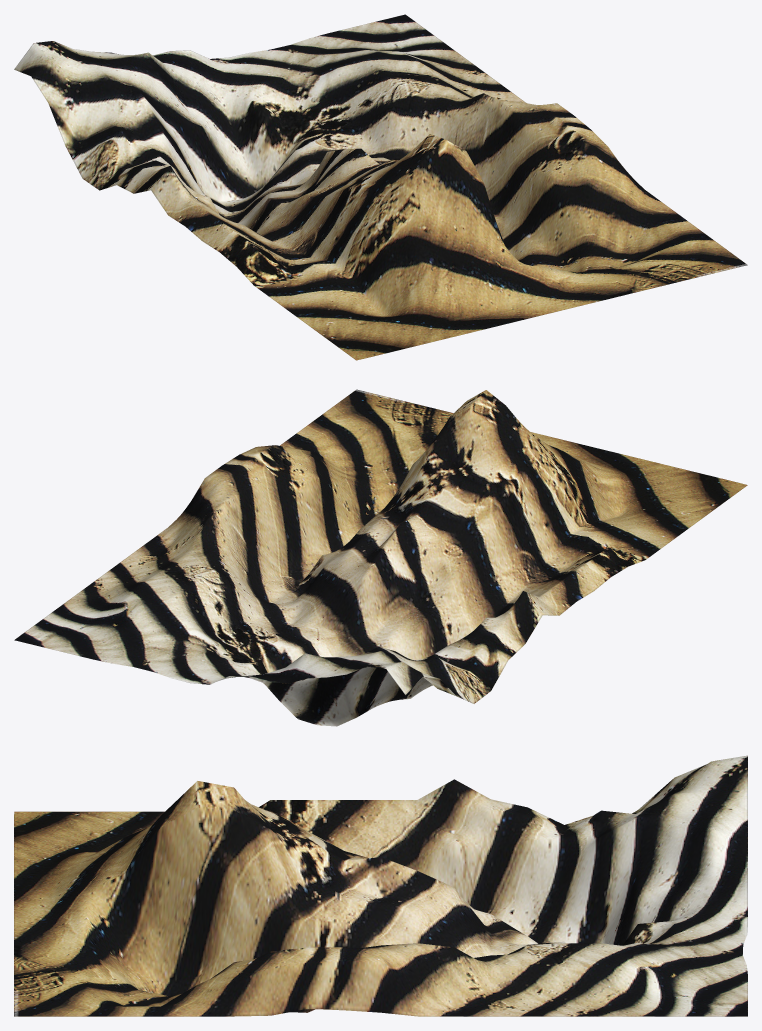
File: terrain8000_wAlphaMap.DAE
3 views of the same model, one above another, from view 1: azimuth 30°, elevation 25°; view 2: azimuth 150°, elevation 25°; view 3: azimuth 270°, elevation 25° (orthographic). The views are drawn at different scales.
Parts seen in each view (by area): view 1: geo_terrain28; view 2: geo_terrain28; view 3: geo_terrain28.
Part boxes in pixels (left/top/right/bottom): geo_terrain28: left=14, top=14, right=747, bottom=360; geo_terrain28: left=14, top=389, right=747, bottom=726; geo_terrain28: left=14, top=755, right=747, bottom=1016.
Bounding box in the file's own units: 1980 × 3000 × 932.
Materials: 1 (1 with a texture image).
